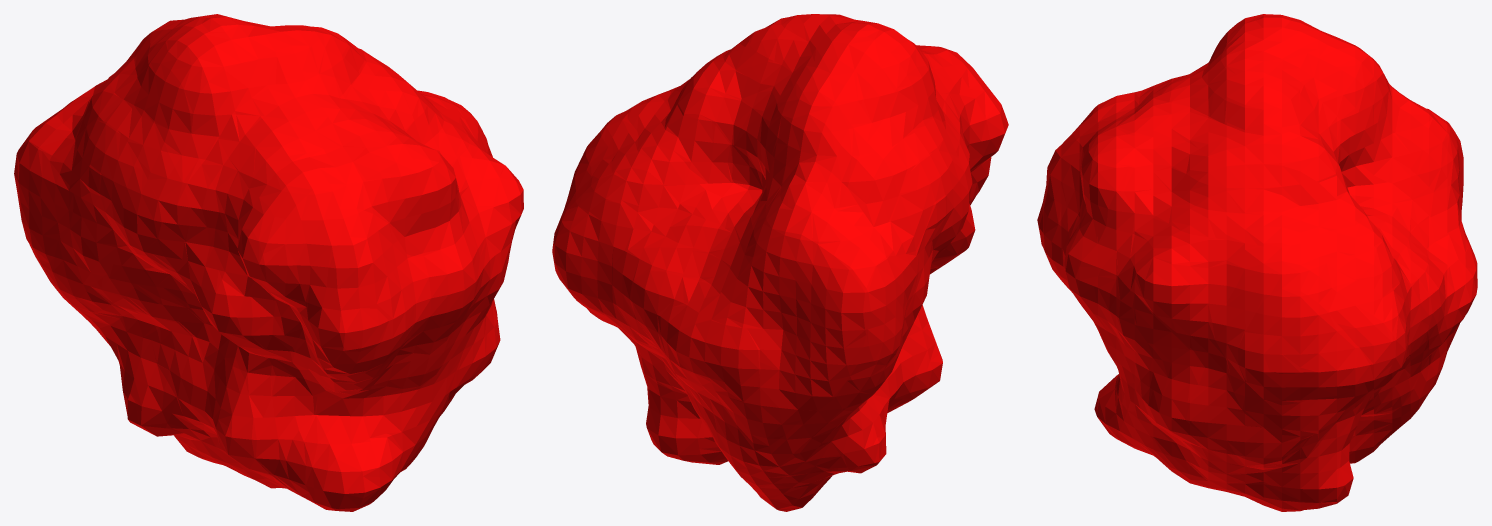
File: pncB_coarse.dae
The picture shows the model from 3 angles, left to right: view 1: azimuth 30°, elevation 25°; view 2: azimuth 150°, elevation 25°; view 3: azimuth 270°, elevation 25°; orthographic projection. The views are drawn at different scales.
Visible parts, largest first — view 1: pncB; view 2: pncB; view 3: pncB.
Part boxes in pixels (left/top/right/bottom): pncB: left=14, top=14, right=523, bottom=511; pncB: left=552, top=14, right=1008, bottom=511; pncB: left=1037, top=14, right=1477, bottom=511.
Size of the model in its own units: 54.22 by 62.49 by 58.08.
